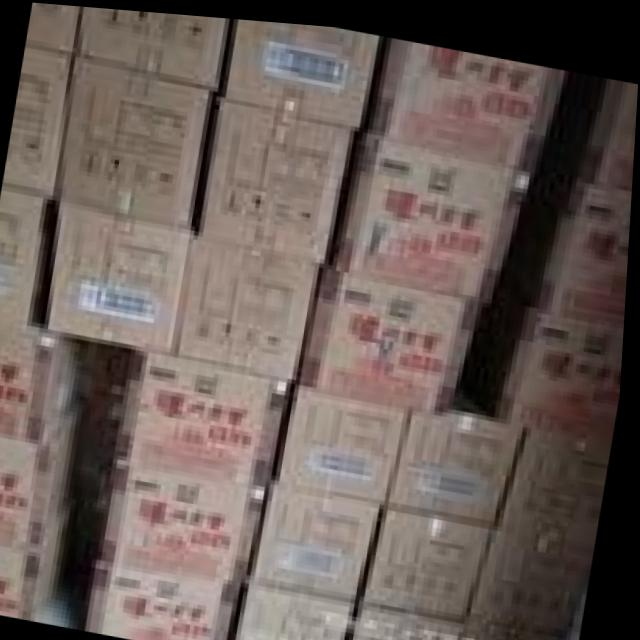box: (332, 124, 537, 298), (360, 29, 569, 169), (57, 54, 221, 228), (299, 258, 482, 406), (196, 91, 359, 256), (117, 345, 298, 487), (97, 454, 274, 582), (50, 202, 197, 353), (456, 298, 627, 427), (181, 231, 326, 378), (493, 167, 633, 317), (221, 15, 379, 122), (275, 380, 416, 498), (392, 400, 533, 517), (255, 478, 391, 597), (369, 496, 500, 614), (475, 517, 596, 630), (89, 558, 255, 640), (502, 415, 612, 533), (77, 5, 232, 88), (0, 318, 95, 446), (0, 404, 87, 543), (541, 62, 639, 181), (5, 45, 75, 199), (0, 182, 57, 328), (0, 514, 76, 613), (239, 583, 368, 640), (355, 598, 474, 640), (467, 613, 581, 640), (27, 2, 81, 54)
